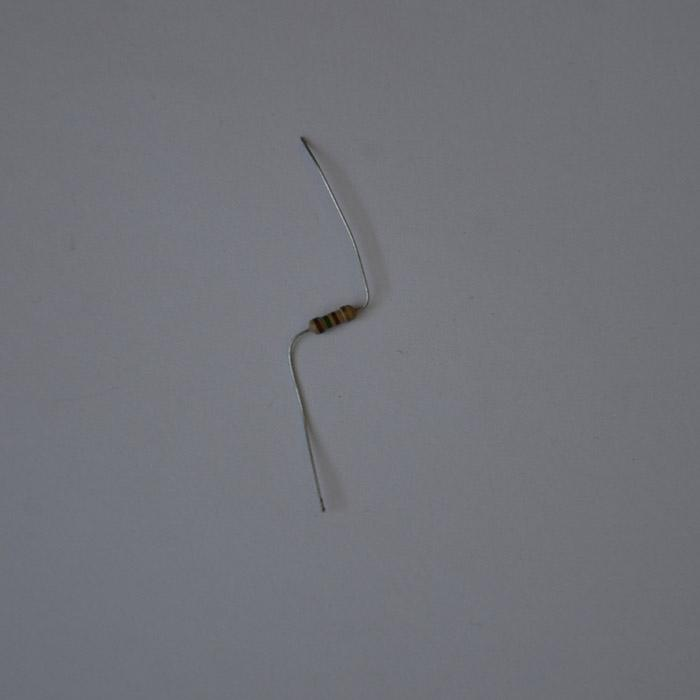resistor: (308, 303, 357, 335)
